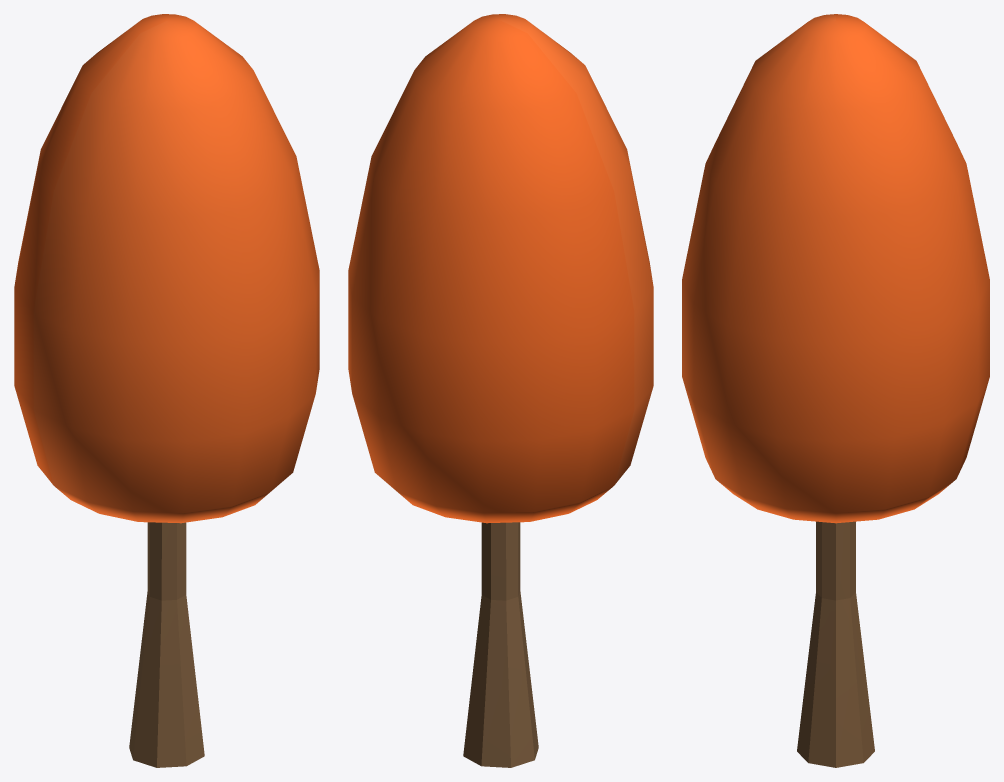
File: tree_2_orange.fbx
The picture shows the model from 3 angles, left to right: view 1: azimuth 30°, elevation 25°; view 2: azimuth 150°, elevation 25°; view 3: azimuth 270°, elevation 25°; orthographic projection.
Visible parts, largest first — view 1: tree_2_orange; view 2: tree_2_orange; view 3: tree_2_orange.
Part boxes in pixels (bbox=[...]): tree_2_orange: bbox=[14, 14, 319, 767]; tree_2_orange: bbox=[348, 14, 653, 767]; tree_2_orange: bbox=[682, 14, 989, 767].
Size of the model in its own units: 331 by 868 by 331.
